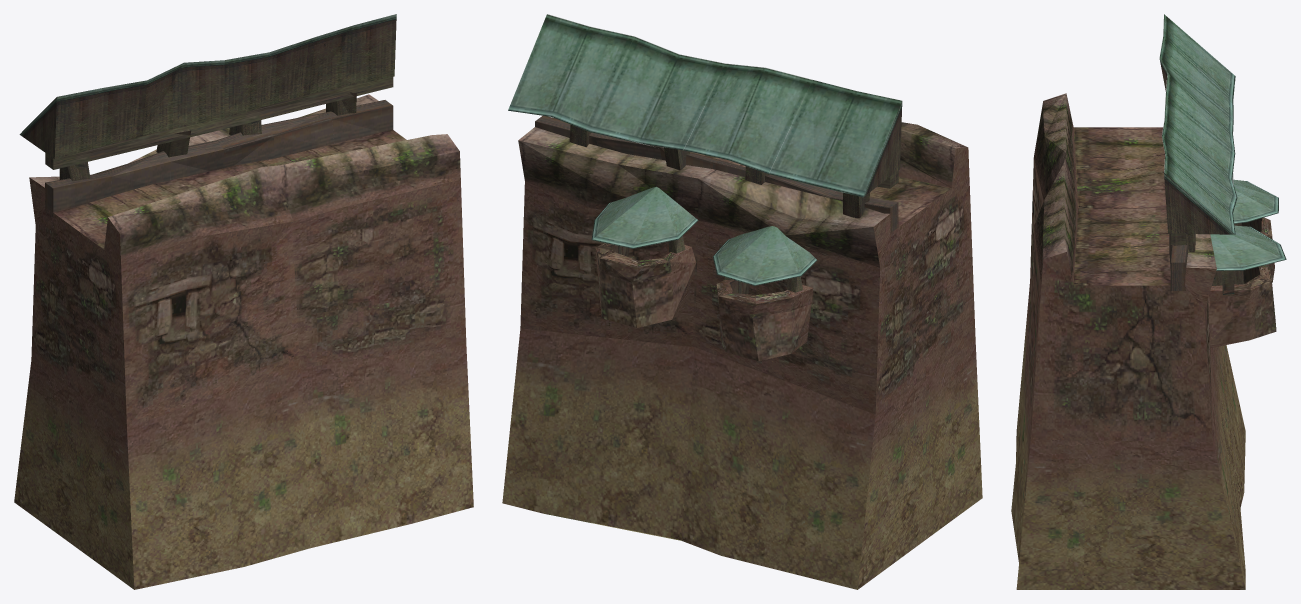
The model's file is C1SMWA10BH.obj.
3 views of the same model, side by side, from view 1: azimuth 30°, elevation 25°; view 2: azimuth 150°, elevation 25°; view 3: azimuth 270°, elevation 25° (orthographic). The views are drawn at different scales.
Parts seen in each view (by area): view 1: Node 0; view 2: Node 0; view 3: Node 0.
Boxes of the visible parts, <box> form: Node 0: <box>14,14,473,589</box>; Node 0: <box>502,14,982,589</box>; Node 0: <box>1011,14,1286,589</box>.
Size of the model in its own units: 10 by 12.41 by 7.34.
4 materials, 4 textured.
